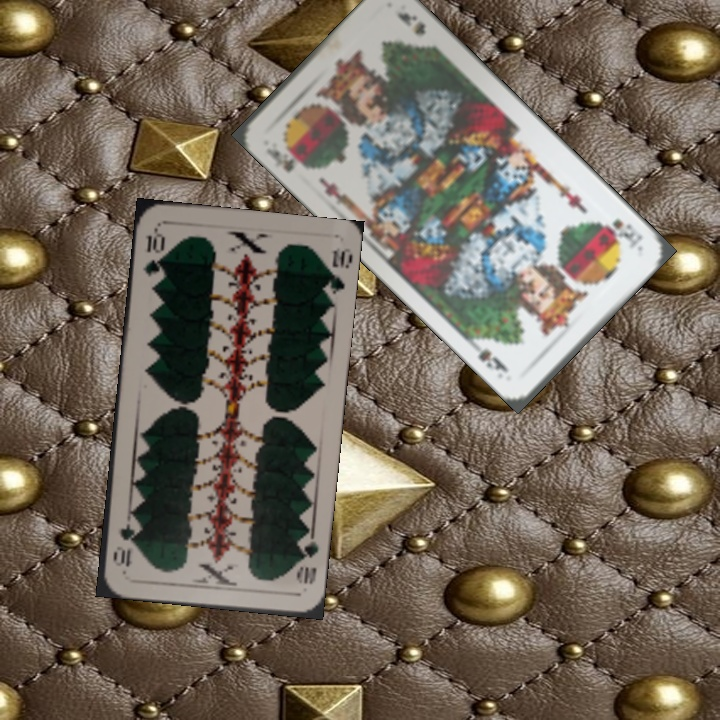G10: (138, 225, 167, 280), (292, 532, 321, 587)
SK: (262, 141, 314, 175), (602, 214, 645, 252)
